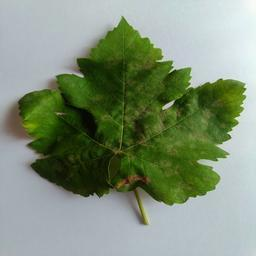Powdery-Mildew: (119, 101, 173, 131), (155, 135, 180, 174), (24, 98, 50, 134), (189, 109, 212, 142), (139, 50, 155, 67), (169, 182, 185, 199), (221, 93, 237, 109)
